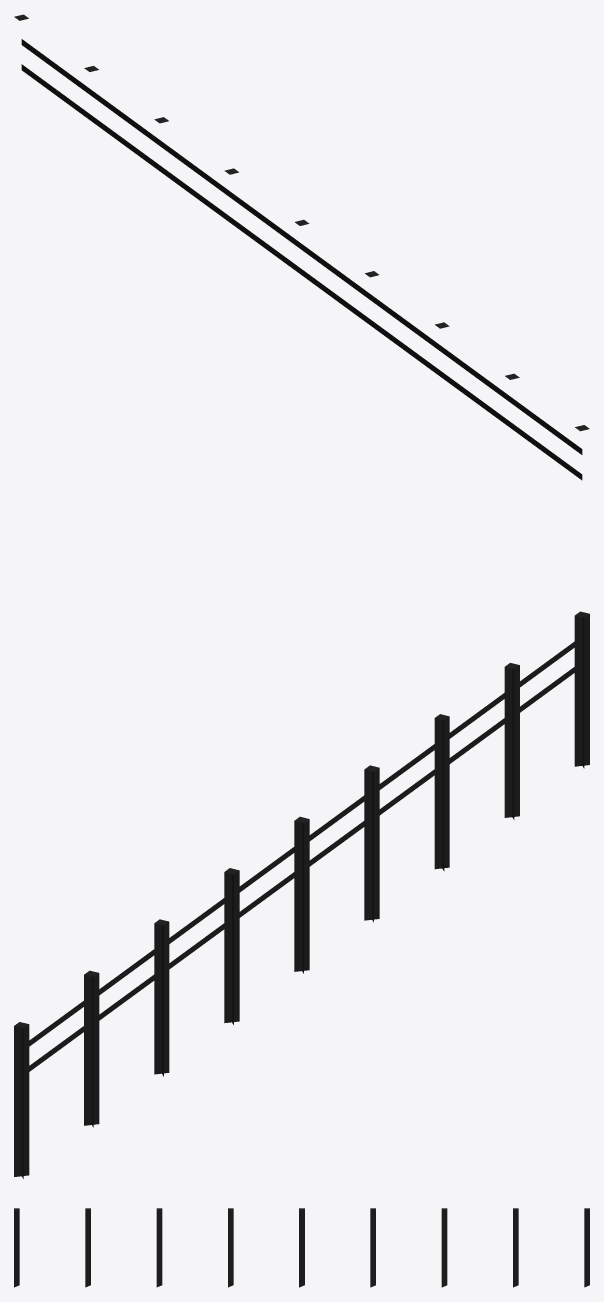
The model's file is AMB_KUI00.glb.
3 renders of one model, top to bottom at view 1: azimuth 30°, elevation 25°; view 2: azimuth 150°, elevation 25°; view 3: azimuth 270°, elevation 25°, orthographic. The views are drawn at different scales.
Visible parts, largest first — view 1: Saku; view 2: Saku, obj14, obj15, obj41, obj47, obj44, obj43, obj46, obj45, obj42; view 3: obj45, obj41, obj42, obj47, obj46, obj43, obj15, obj14, obj44.
Part boxes in pixels (x1=…): Saku: x1=21, y1=39, x2=582, y2=480; Saku: x1=29, y1=636, x2=582, y2=1071; obj14: x1=14, y1=1022, x2=29, y2=1178; obj15: x1=84, y1=970, x2=99, y2=1127; obj41: x1=154, y1=919, x2=169, y2=1076; obj47: x1=574, y1=611, x2=589, y2=768; obj44: x1=364, y1=765, x2=379, y2=922; obj43: x1=294, y1=816, x2=309, y2=973; obj46: x1=504, y1=663, x2=519, y2=819; obj45: x1=434, y1=714, x2=449, y2=871; obj42: x1=224, y1=868, x2=239, y2=1024; obj45: x1=156, y1=1208, x2=162, y2=1287; obj41: x1=441, y1=1208, x2=447, y2=1287; obj42: x1=370, y1=1208, x2=375, y2=1287; obj47: x1=14, y1=1208, x2=19, y2=1287; obj46: x1=85, y1=1208, x2=90, y2=1287; obj43: x1=299, y1=1208, x2=304, y2=1287; obj15: x1=513, y1=1208, x2=518, y2=1287; obj14: x1=584, y1=1208, x2=589, y2=1287; obj44: x1=228, y1=1208, x2=233, y2=1287.
Bounding box in the file's own units: 1 × 14.87 × 101.
Materials: 10 (10 with a texture image).
